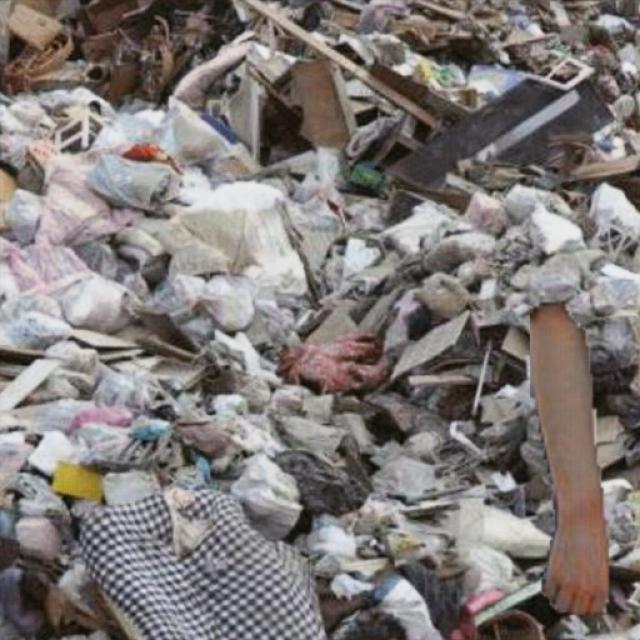Person in Rubble: (530, 302, 608, 614)
